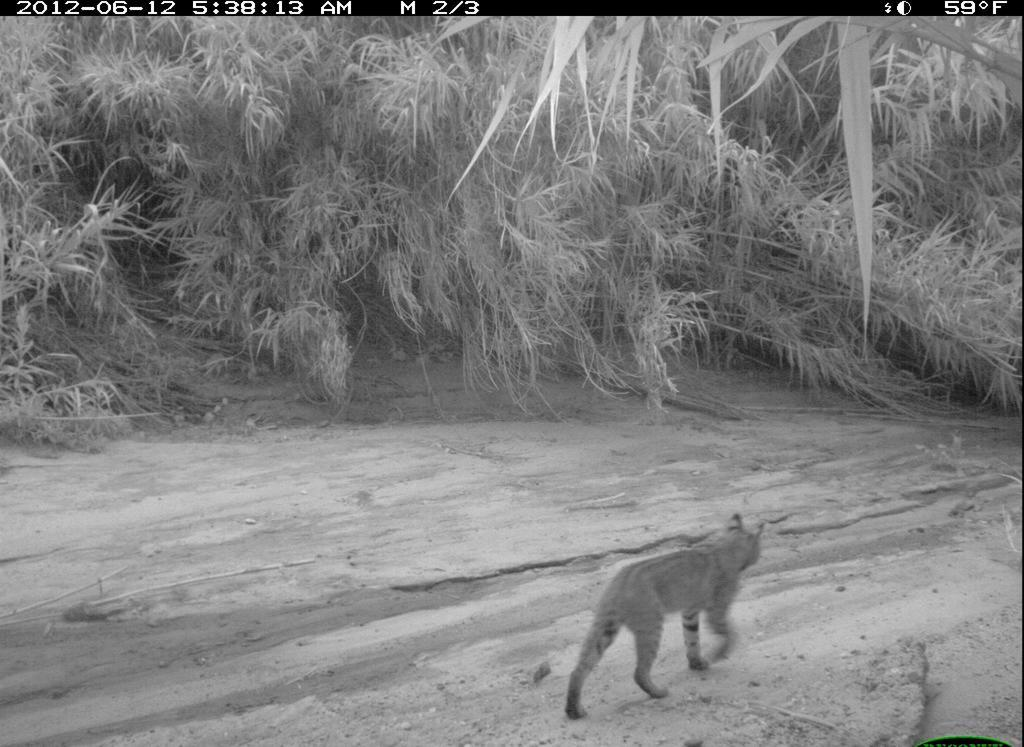bobcat: (560, 507, 774, 724)
